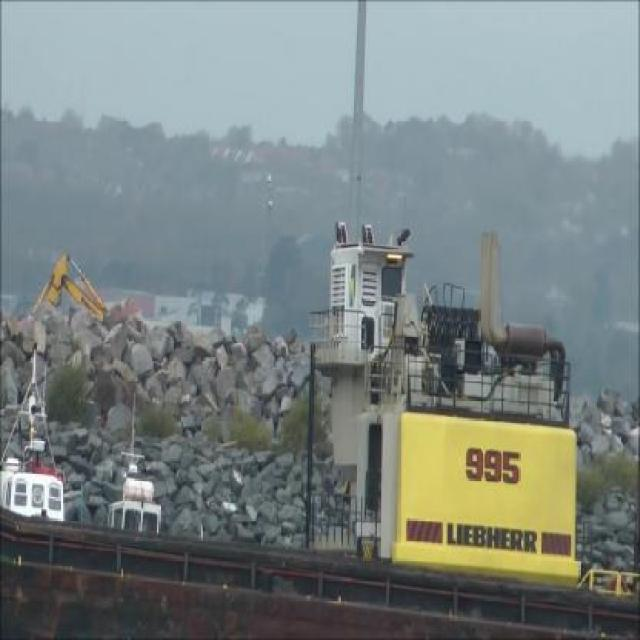excavator: (300, 218, 583, 591), (31, 250, 107, 315)
